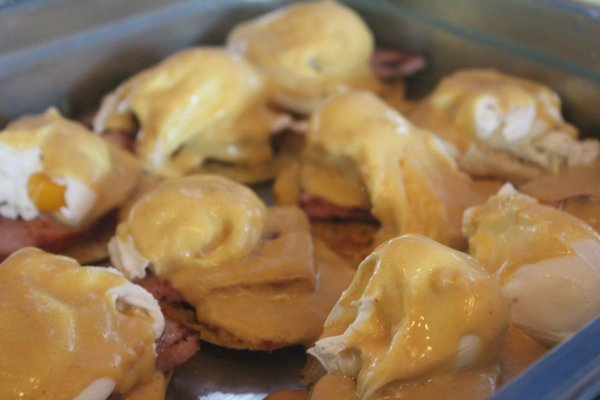salad: (0, 247, 167, 396)
